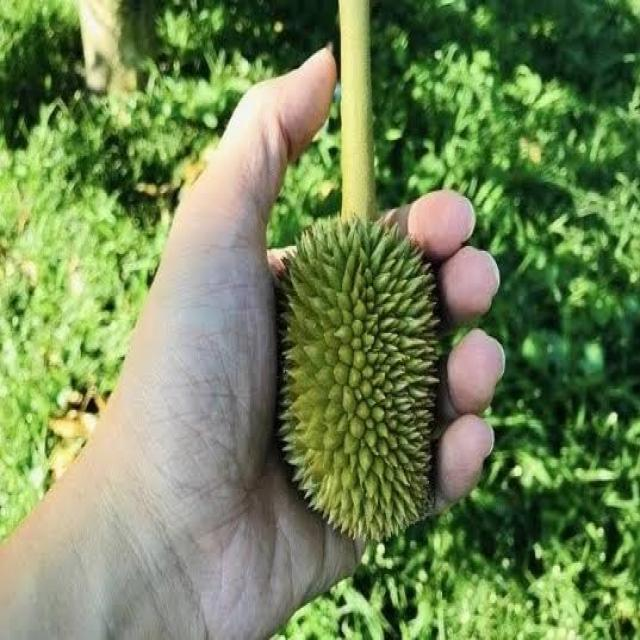immature: (278, 212, 444, 548)
